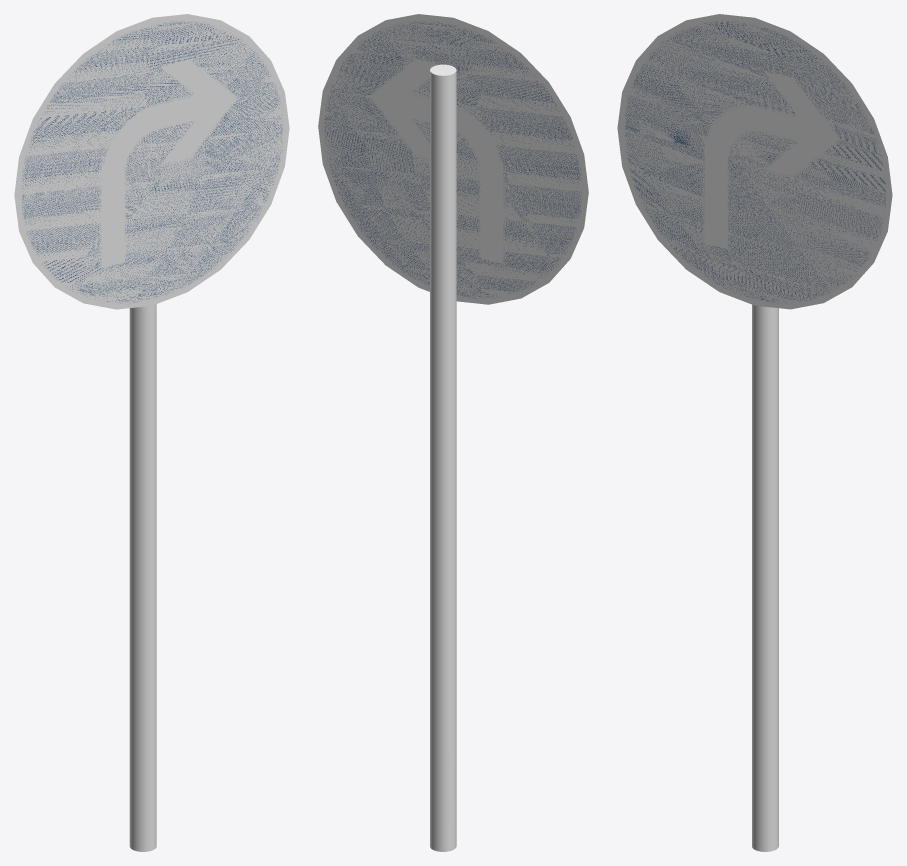
3 renders of one model, left to right at view 1: azimuth 30°, elevation 25°; view 2: azimuth 150°, elevation 25°; view 3: azimuth 330°, elevation 25°, orthographic.
Parts seen in each view (by area): view 1: SketchUp (×2); view 2: SketchUp (×2); view 3: SketchUp (×2).
Boxes of the visible parts, bbox=[...] form: SketchUp (×2): bbox=[14, 14, 289, 851]; SketchUp (×2): bbox=[318, 14, 588, 851]; SketchUp (×2): bbox=[617, 14, 892, 851].
Bounding box in the file's own units: 74.02 × 7.6 × 215.
Materials: 2 (1 with a texture image).
